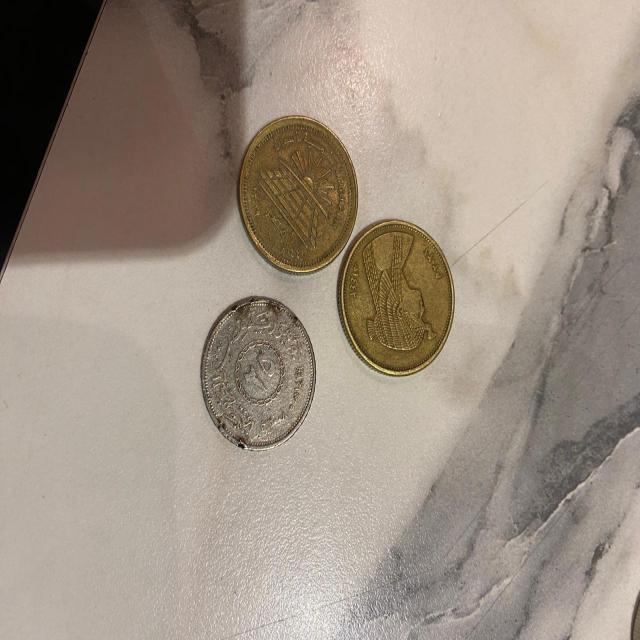Half Pound: (329, 210, 479, 383), (235, 98, 363, 282)
quarter pound: (180, 287, 323, 450)
